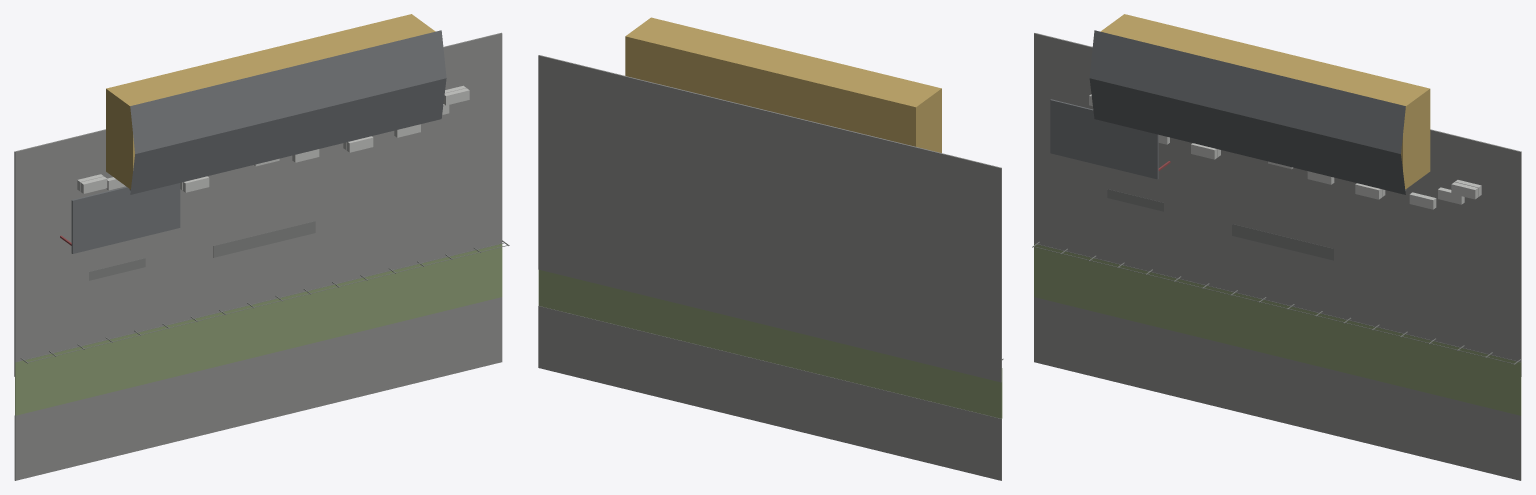
Rendered from sagverket_vrigstad_study.glb.
The picture shows the model from 3 angles, left to right: view 1: azimuth 30°, elevation 25°; view 2: azimuth 150°, elevation 25°; view 3: azimuth 330°, elevation 25°; orthographic projection. The views are drawn at different scales.
Parts seen in each view (by area): view 1: yard, road, roadside_grass, low_sawtooth_roof1, low_sawtooth_roof0, main_yellow_hall, awning, yard_repair_1, fence_upper_bar, fence_middle_bar, yard_repair_0; view 2: yard, road, main_yellow_hall, roadside_grass; view 3: yard, road, roadside_grass, low_sawtooth_roof1, low_sawtooth_roof0, main_yellow_hall, awning, yard_repair_1, fence_upper_bar, fence_middle_bar, yard_repair_0.
Boxes of the visible parts, <box> form: yard: <box>14,32,502,376</box>; road: <box>14,297,502,480</box>; roadside_grass: <box>15,244,502,415</box>; low_sawtooth_roof1: <box>130,30,446,153</box>; low_sawtooth_roof0: <box>130,78,446,194</box>; main_yellow_hall: <box>106,14,435,189</box>; awning: <box>71,183,180,253</box>; yard_repair_1: <box>213,221,315,257</box>; fence_upper_bar: <box>28,245,507,362</box>; fence_middle_bar: <box>24,242,504,359</box>; yard_repair_0: <box>89,258,145,280</box>; yard: <box>538,55,1001,382</box>; road: <box>538,306,1001,480</box>; main_yellow_hall: <box>625,17,941,152</box>; roadside_grass: <box>538,269,1002,418</box>; yard: <box>1034,33,1521,376</box>; road: <box>1034,297,1521,480</box>; roadside_grass: <box>1034,243,1521,415</box>; low_sawtooth_roof1: <box>1089,30,1405,153</box>; low_sawtooth_roof0: <box>1089,78,1405,194</box>; main_yellow_hall: <box>1101,14,1430,189</box>; awning: <box>1050,99,1158,179</box>; yard_repair_1: <box>1232,224,1333,260</box>; fence_upper_bar: <box>1034,246,1513,363</box>; fence_middle_bar: <box>1037,244,1517,361</box>; yard_repair_0: <box>1107,189,1163,211</box>.
Size of the model in its own units: 86.06 by 63 by 10.07.
